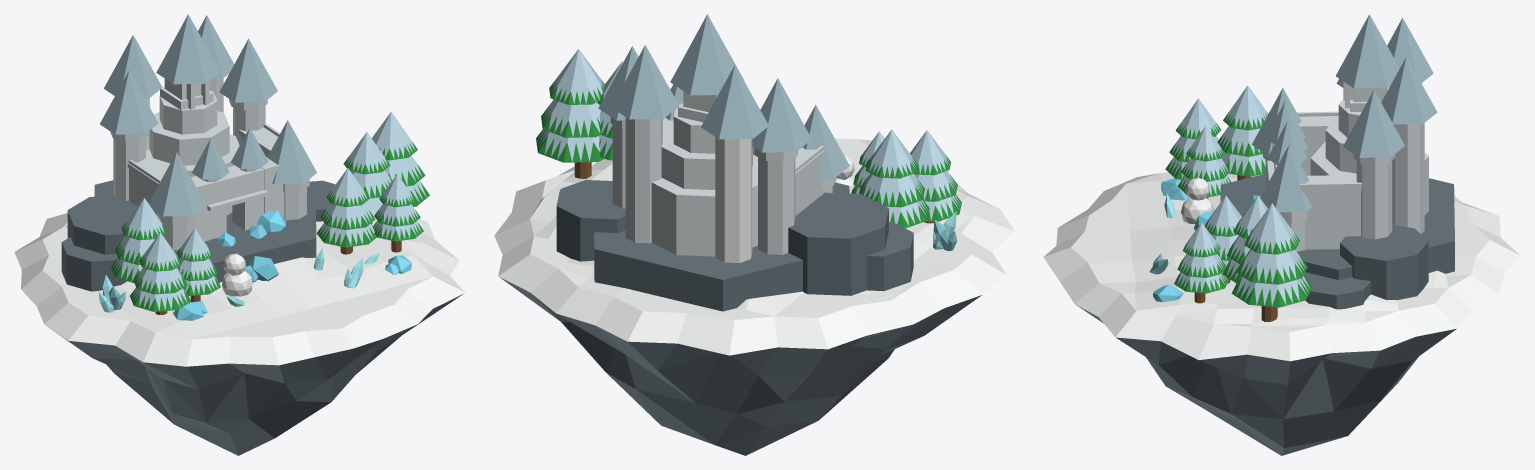
Rendered from Island_White.glb.
3 renders of one model, left to right at view 1: azimuth 30°, elevation 25°; view 2: azimuth 150°, elevation 25°; view 3: azimuth 270°, elevation 25°, orthographic. The views are drawn at different scales.
Parts seen in each view (by area): view 1: Cone, Cylinder, Cylinder.023, Cone.003, Cylinder.002, Cylinder.024, Cone.006, Cone.007, Cone.001, Cone.002, Cone.009, Cylinder.004 (+39 smaller); view 2: Cone, Cylinder, Cylinder.023, Cylinder.003, Cylinder.011, Cylinder.026, Cylinder.010, Cylinder.008, Cone.003, Cone.008, Cone.009, Cone.006 (+16 smaller); view 3: Cone, Cylinder, Cylinder.026, Cylinder.010, Cube.006, Cone.003, Cylinder.009, Cone.007, Cone.008, Cone.002, Cone.029, Cylinder.025 (+24 smaller).
Boxes of the visible parts, x1,y1,x2,y2 form: Cone: (14,213,465,455); Cylinder: (94,180,316,282); Cylinder.023: (67,195,137,254); Cone.003: (156,14,220,84); Cylinder.002: (149,111,229,165); Cylinder.024: (61,237,126,291); Cone.006: (100,70,158,134); Cone.007: (219,38,277,102); Cone.001: (148,152,205,216); Cone.002: (267,120,316,184); Cone.009: (104,35,162,98); Cylinder.004: (159,91,217,134); Cone: (494,138,1014,455); Cylinder: (594,182,849,311); Cylinder.023: (788,192,888,295); Cylinder.003: (651,155,757,256); Cylinder.011: (715,137,752,262); Cylinder.026: (556,180,625,261); Cylinder.010: (625,117,662,243); Cylinder.008: (758,157,795,254); Cone.003: (670,14,744,95); Cone.008: (611,45,679,119); Cone.009: (701,65,767,139); Cone.006: (752,78,811,152); Cone: (1043,172,1520,455); Cylinder: (1220,174,1454,280); Cylinder.026: (1340,225,1428,299); Cylinder.010: (1392,123,1424,233); Cube.006: (1304,190,1360,249); Cone.003: (1336,14,1399,88); Cylinder.009: (1356,161,1392,239); Cone.007: (1343,90,1404,157); Cone.008: (1381,56,1437,124); Cone.002: (1260,144,1312,212); Cone.029: (1236,249,1307,284); Cylinder.025: (1304,272,1370,355).
Size of the model in its own units: 9.15 by 9.2 by 9.1.
